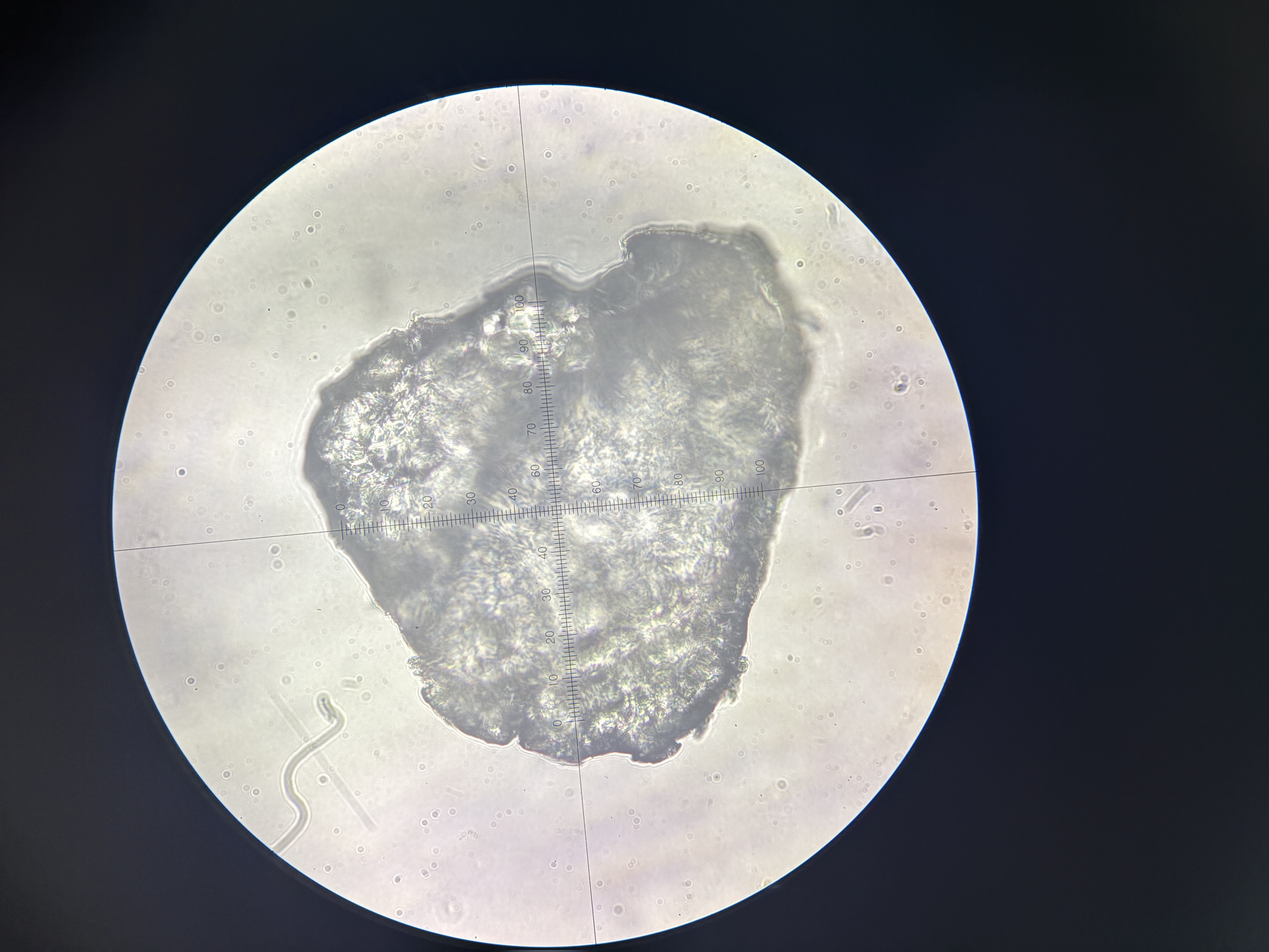microplastic: (293, 220, 826, 772)
